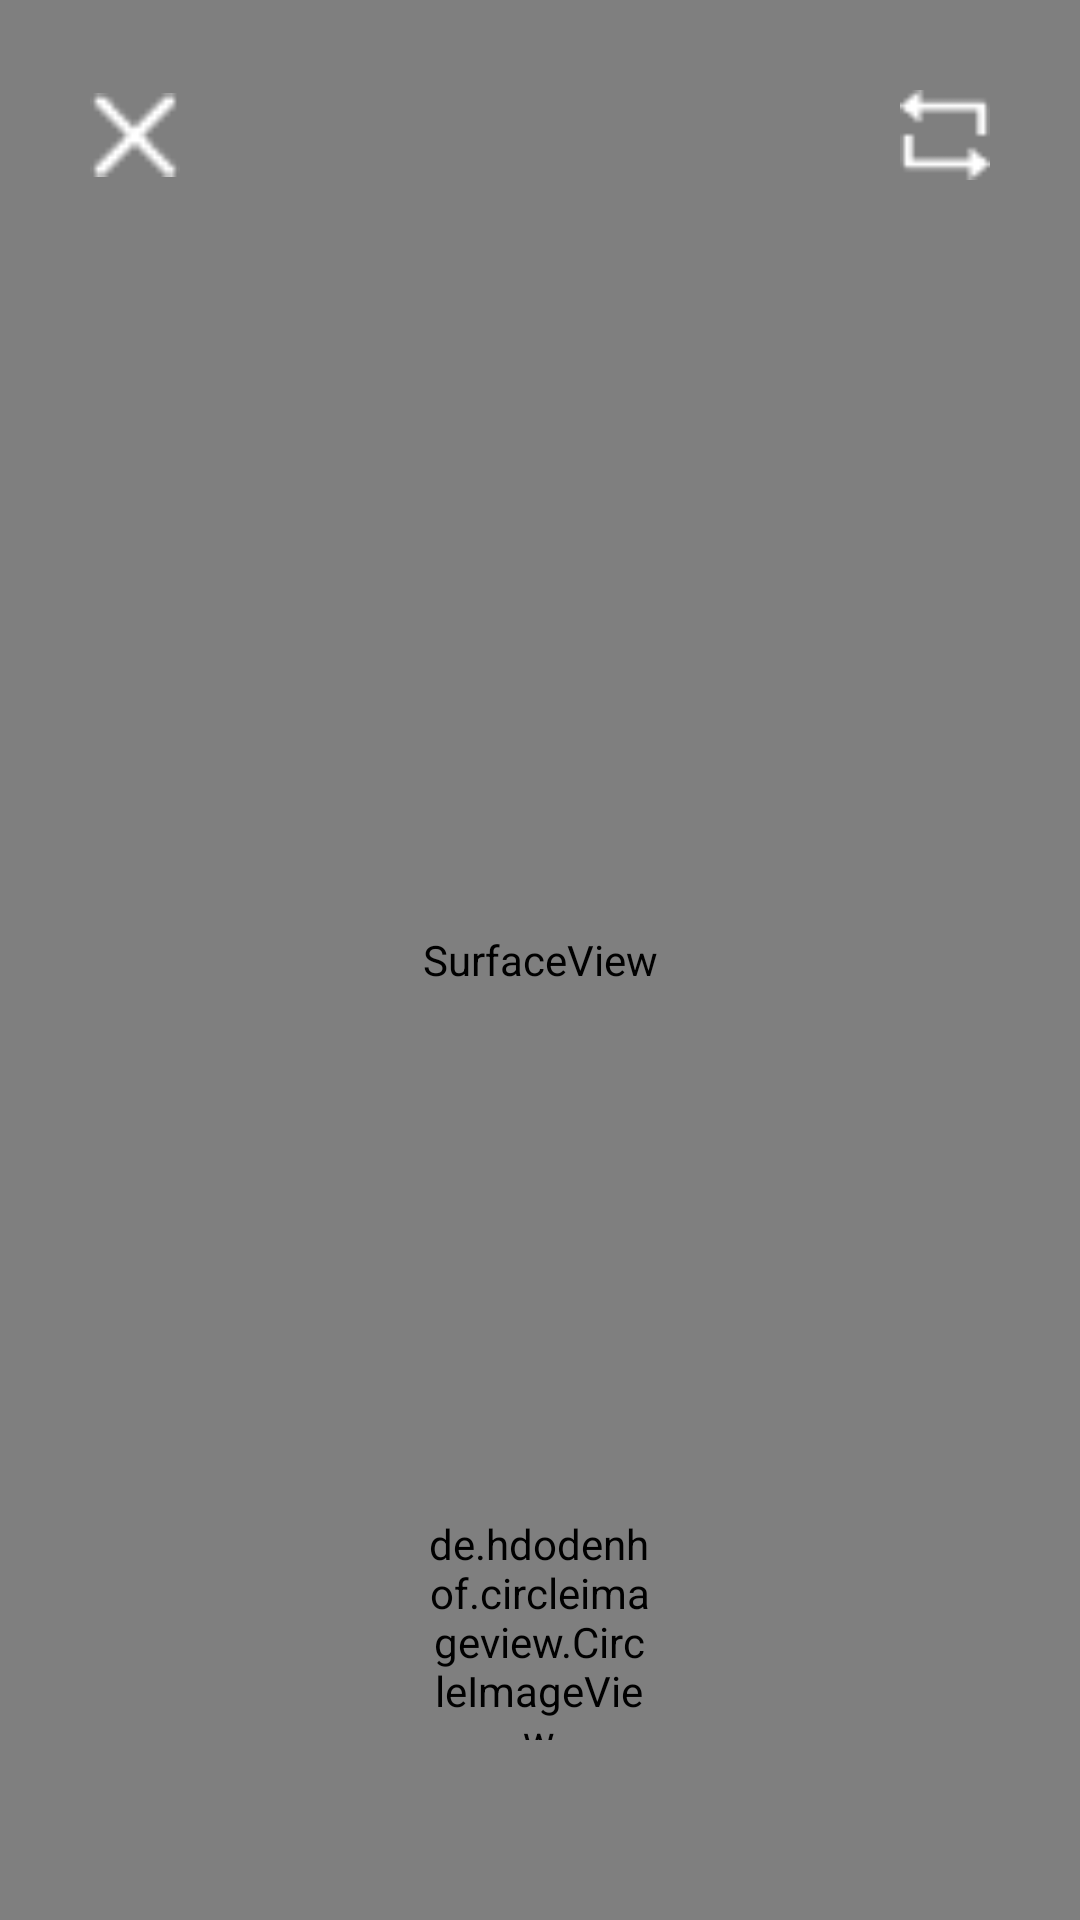

Where icons sit on this 1080x1920 app screen, as region(x1, y1, x2, y2):
change camera mode: region(900, 90, 990, 180)
exit record: region(94, 93, 176, 177)
